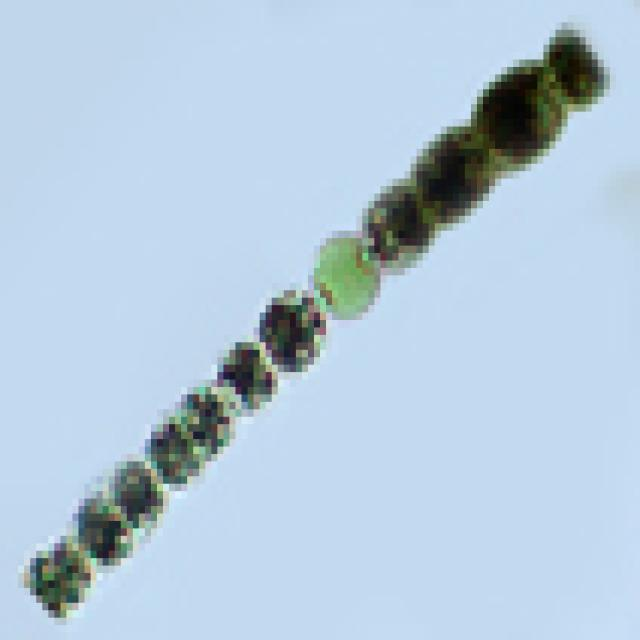Blue Green Algae: (471, 60, 567, 164), (411, 119, 489, 223), (254, 275, 332, 372), (18, 536, 97, 618), (543, 22, 610, 112), (362, 179, 429, 268), (217, 327, 278, 417), (175, 372, 236, 461), (72, 484, 133, 566), (109, 454, 163, 536), (139, 417, 193, 491)
